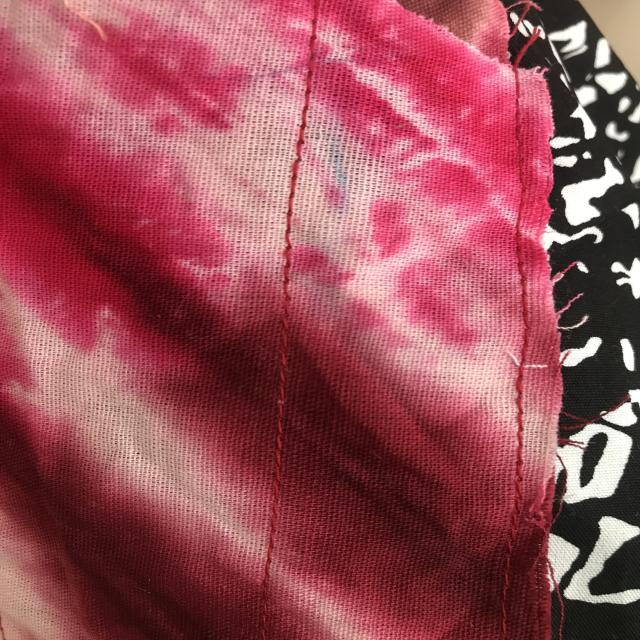good: (505, 393, 533, 467), (301, 33, 325, 106), (267, 418, 292, 488)
